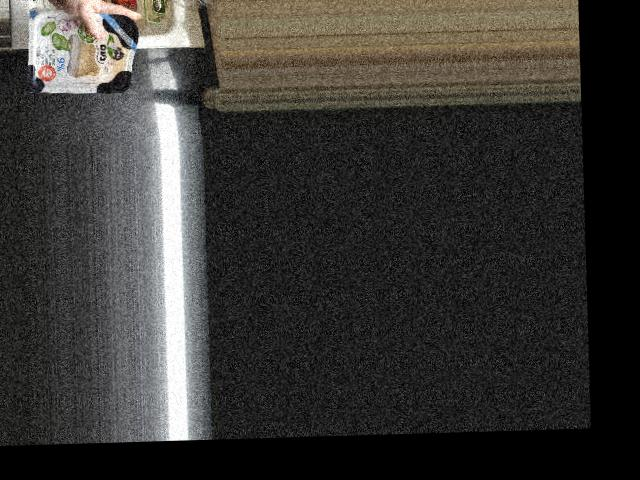cheese: (30, 5, 140, 94)
